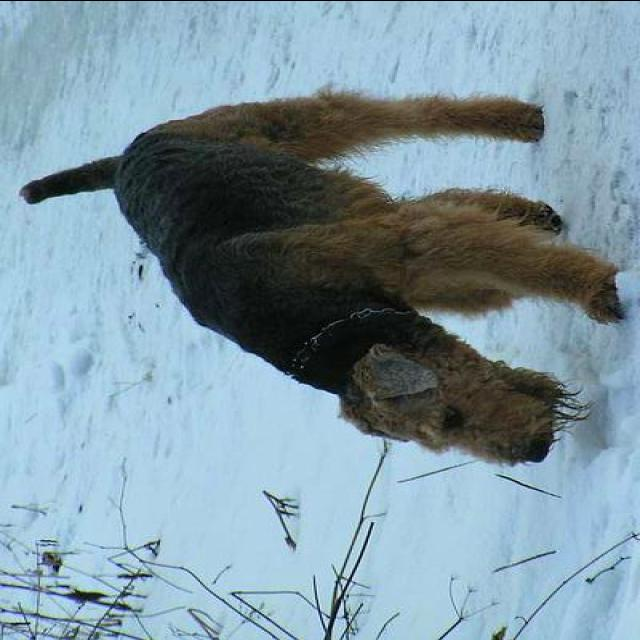airedale: (11, 82, 627, 464)
